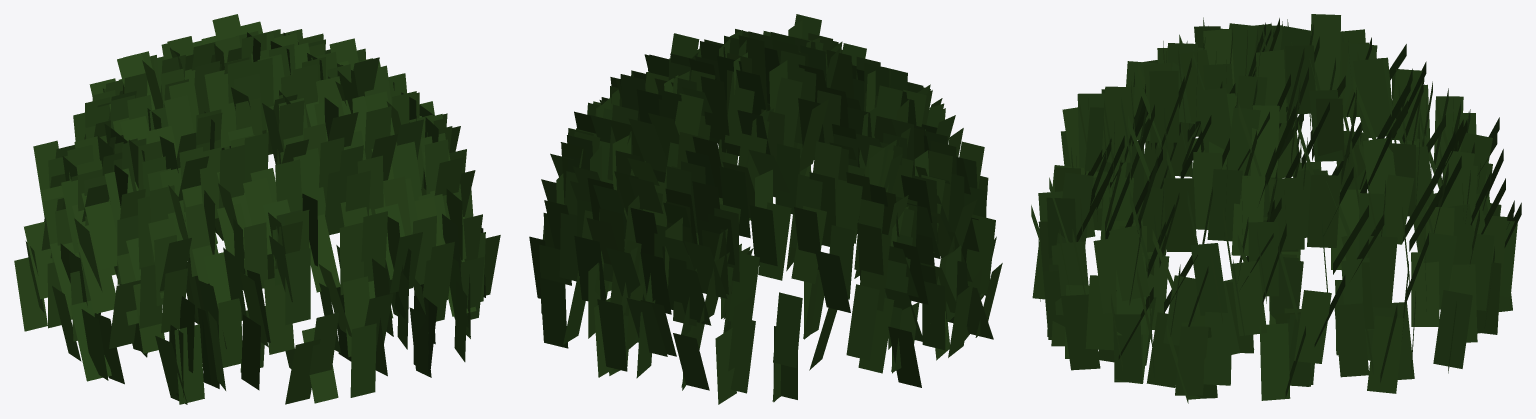
The model's file is Bush.glb.
3 renders of one model, left to right at view 1: azimuth 30°, elevation 25°; view 2: azimuth 150°, elevation 25°; view 3: azimuth 270°, elevation 25°, orthographic. The views are drawn at different scales.
Parts seen in each view (by area): view 1: Bush; view 2: Bush; view 3: Bush.
Part boxes in pixels (left/top/right/bottom): Bush: left=14, top=14, right=500, bottom=404; Bush: left=529, top=14, right=1002, bottom=404; Bush: left=1031, top=14, right=1521, bottom=403.
Bounding box in the file's own units: 1.63 × 1.06 × 1.7.
